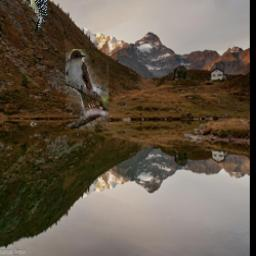Cuckoo: (66, 49, 109, 130)
Woodpecker: (20, 0, 47, 36)
